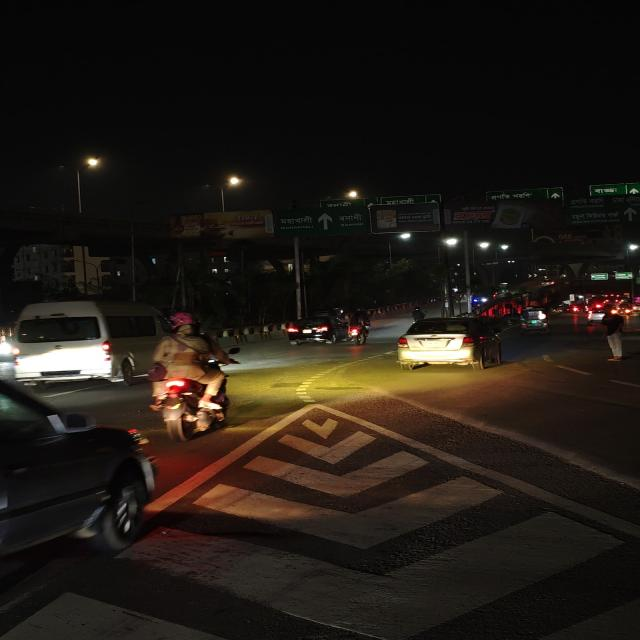car: (0, 363, 161, 569), (4, 296, 171, 386), (392, 316, 507, 372), (284, 312, 344, 347), (586, 308, 610, 322)
cng: (516, 307, 554, 335)
motorcycle: (147, 314, 239, 442), (344, 308, 376, 346)
pedestrian: (596, 313, 632, 363)
